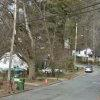Car: (81, 61, 95, 76)
